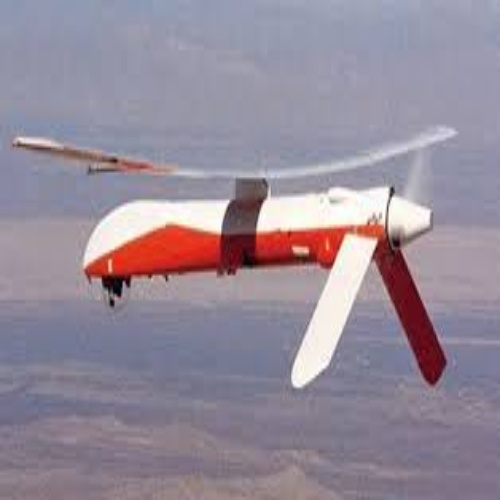uav: (11, 128, 456, 389)
